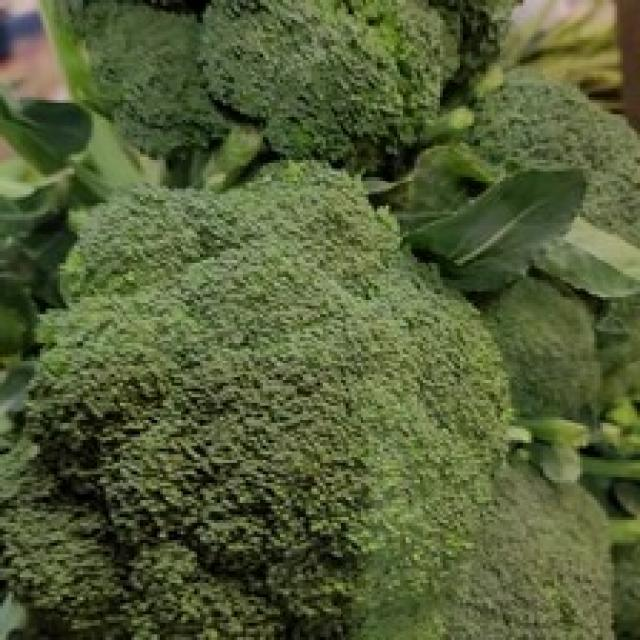Broccoli: (0, 162, 612, 640), (0, 162, 611, 640), (201, 0, 458, 173), (201, 0, 458, 172), (469, 74, 640, 246), (469, 74, 640, 246), (70, 0, 229, 156), (70, 0, 229, 156), (488, 278, 600, 419), (488, 278, 600, 419)
